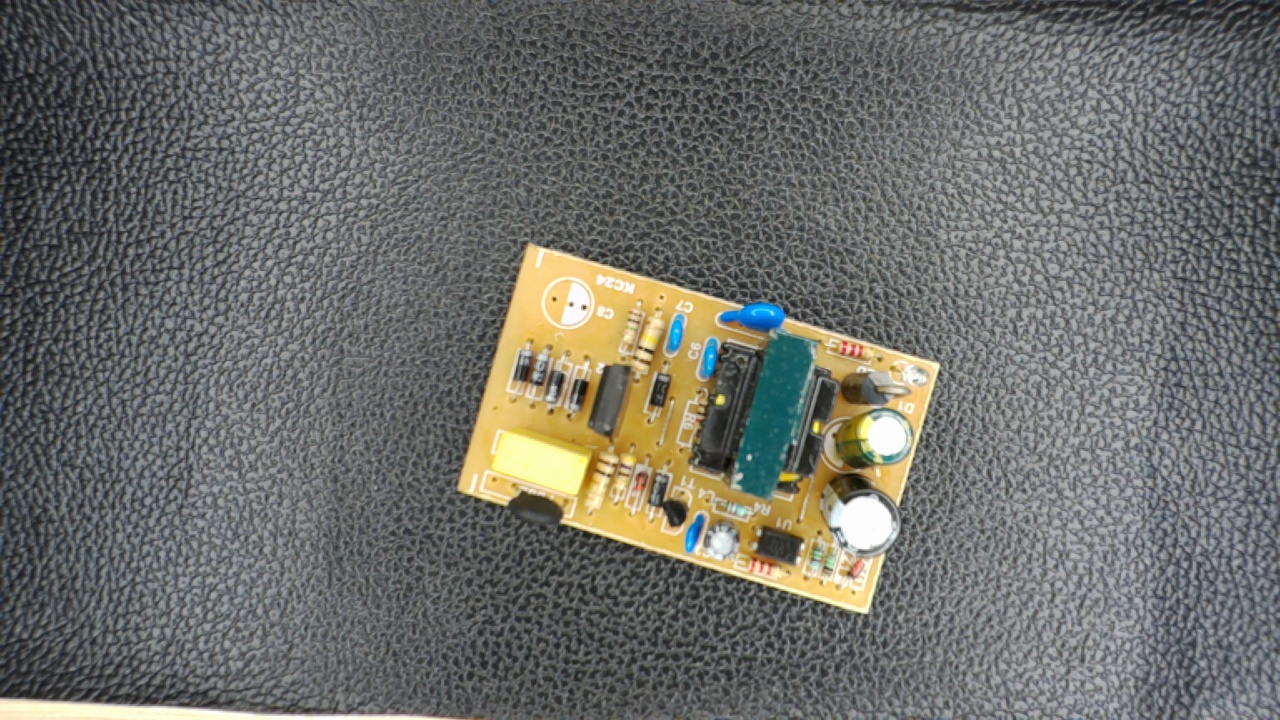fuse: (498, 479, 578, 534)
mov: (714, 294, 791, 336)
optocoupler: (749, 519, 810, 570)
